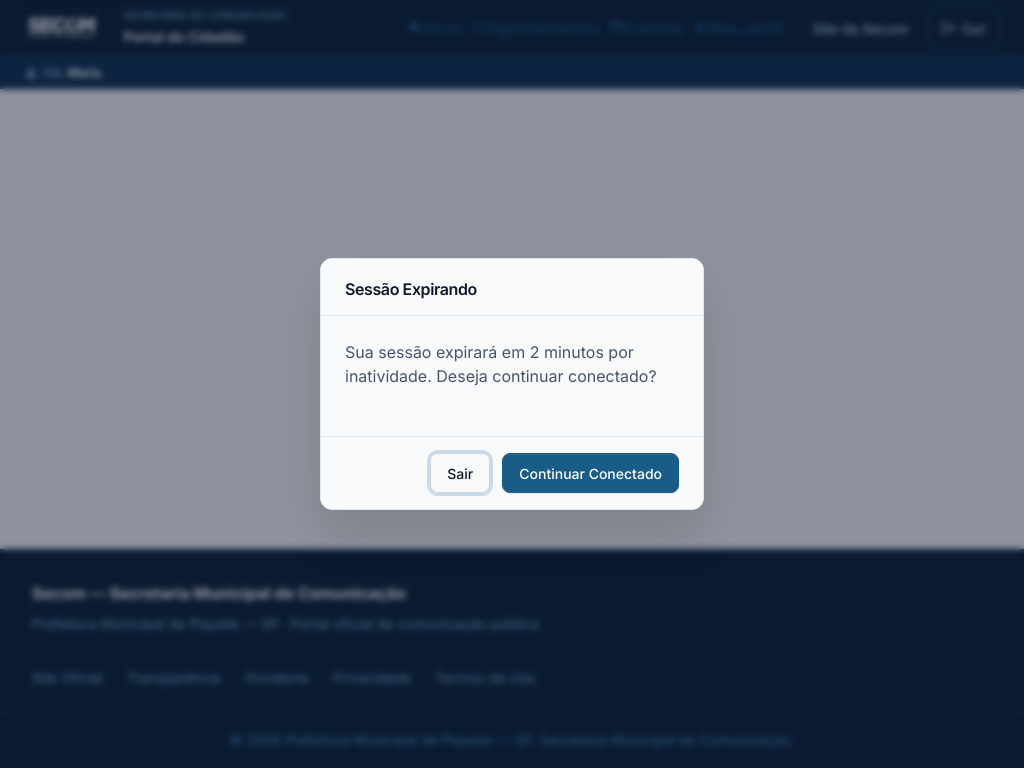
Test case: CitizenPortalLayout — session timeout › dismisses warning modal and does not logout when continue is clicked
This screenshot has width=1024, height=768.
Click the button "Continuar Conectado": {"x": 591, "y": 473} [502, 453, 679, 493]
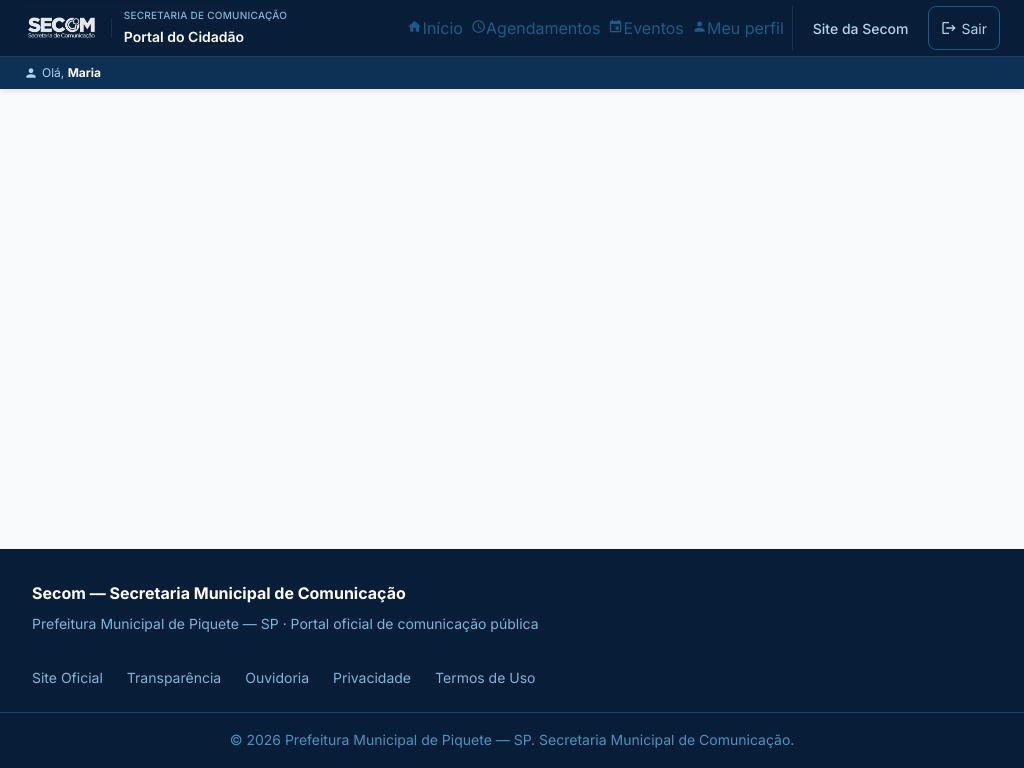
expect the heading "Sessão Expirando" is gone: met
